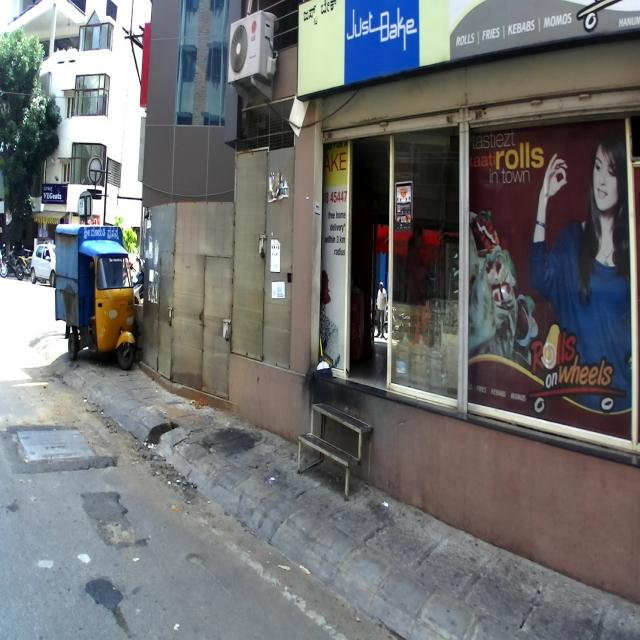Car_TATA: (29, 241, 58, 285)
autorickshaw: (54, 223, 136, 370)
